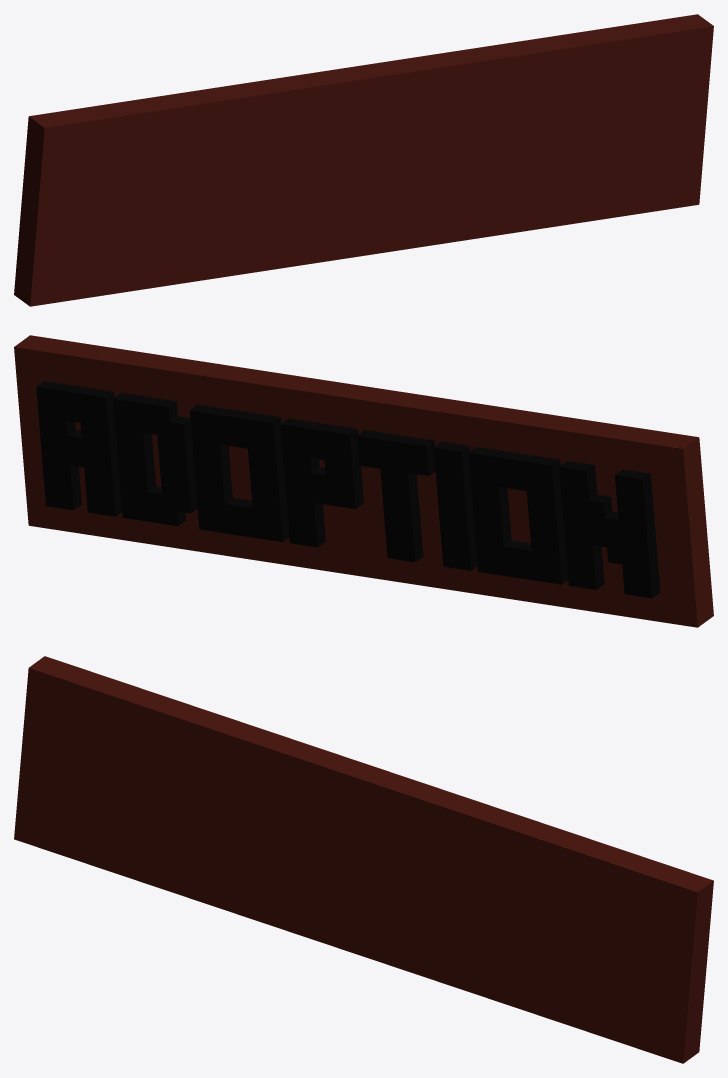
File: adoptsign.gltf
3 views of the same model, one above another, from view 1: azimuth 30°, elevation 25°; view 2: azimuth 150°, elevation 25°; view 3: azimuth 330°, elevation 25° (orthographic).
Visible parts, largest first — view 1: text_ADOPTION; view 2: text_ADOPTION (×29); view 3: text_ADOPTION.
Boxes of the visible parts, x1,y1,x2,y2 form: text_ADOPTION: (14,14,713,306); text_ADOPTION (×29): (14,335,713,627); text_ADOPTION: (14,656,713,1063).
Bounding box in the file's own units: 3.05 × 1.01 × 0.1875.
1 material, 1 textured.
